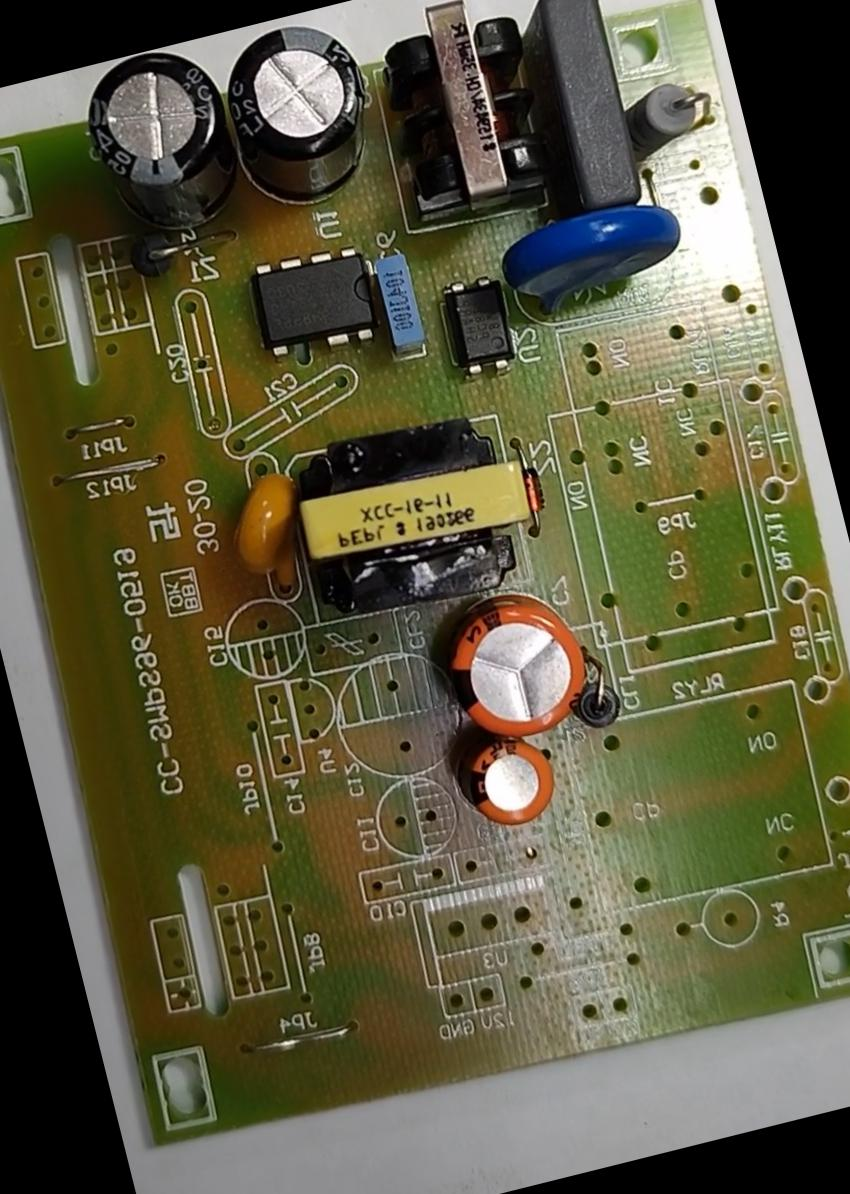Cap1: (408, 571, 613, 765)
Cap2: (434, 714, 576, 850)
Cap3: (198, 1, 396, 227)
Cap4: (68, 37, 256, 257), (617, 66, 727, 162)
MOSFET: (233, 227, 405, 375)
Mov: (482, 183, 698, 336)
Transformer: (258, 384, 560, 638), (351, 0, 577, 239)
